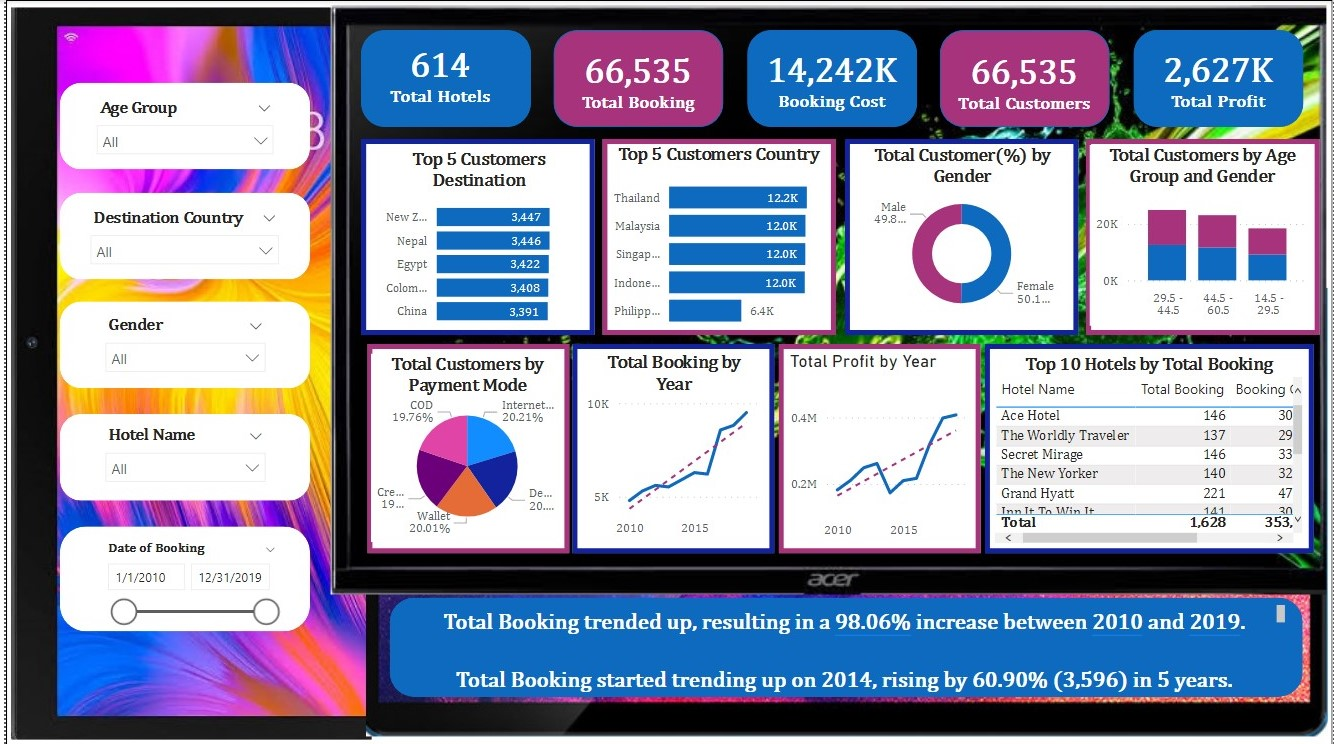

What the dashboard file says about the page in this screenshot:
{"tool":"powerbi","page":{"name":"Hotel Booking Dashboard","canvas":[1280,720],"ordinal":0},"visuals":[{"type":"shape","box":[0,0,1280,720.4],"z":0},{"type":"image","box":[0,0,357.5,720.4],"z":1000},{"type":"image","box":[342.3,269.5,937.7,451],"z":2000},{"type":"image","box":[308,0,972,578.8],"z":3000},{"type":"shape","box":[52,79.7,242,83.9],"z":4000},{"type":"slicer","fields":{"Values":["Order Database.Age Group"]},"box":[77,90.7,191.1,64.6],"z":5000},{"type":"shape","box":[52,186.1,242,83.9],"z":6000},{"type":"shape","box":[52,398.7,242,83.9],"z":7000},{"type":"shape","box":[52,291,242,83.9],"z":8000},{"type":"slicer","fields":{"Values":["Order Database.Destination Country"]},"box":[71.5,196.6,202.1,63.2],"z":9000},{"type":"slicer","fields":{"Values":["Order Database.Gender"]},"box":[85.2,299.7,174.6,66],"z":10000},{"type":"shape","box":[52,507.8,242,101.7],"z":11000},{"type":"slicer","fields":{"Values":["Order Database.Hotel Name"]},"box":[85.2,407,174.6,67.4],"z":12000},{"type":"slicer","fields":{"Values":["Order Database.Date of Booking"]},"box":[85.2,516.9,187,103.1],"z":13000},{"type":"shape","box":[528.6,28.9,163.6,93.5],"z":14000},{"type":"shape","box":[714.9,28.9,163.6,93.5],"z":15000},{"type":"shape","box":[901.2,28.9,163.6,93.5],"z":16000},{"type":"shape","box":[1087.5,28.9,163.6,93.5],"z":17000},{"type":"shape","box":[342.3,28.9,163.6,93.5],"z":18000},{"type":"card","fields":{"Values":["Order Database.Total Hotels"]},"box":[348.1,12.9,140.2,114.1],"z":19000},{"type":"card","fields":{"Values":["Order Database.Total Booking"]},"box":[540.3,17.9,138.9,115.5],"z":20000},{"type":"card","fields":{"Values":["Order Database.Booking Cost"]},"box":[727.3,17.9,138.9,114.1],"z":21000},{"type":"card","fields":{"Values":["Order Database.Total Customers"]},"box":[912.9,19.2,138.9,114.1],"z":22000},{"type":"card","fields":{"Values":["Order Database.Total Profit"]},"box":[1099.9,17.9,138.9,114.1],"z":23000},{"type":"shape","box":[342.7,133.5,225.7,189.9],"z":24000},{"type":"shape","box":[1041.9,133.5,225.7,189.9],"z":25000},{"type":"shape","box":[808.8,133.5,225.7,189.9],"z":26000},{"type":"shape","box":[575.8,133.5,225.7,189.9],"z":27000},{"type":"clusteredBarChart","title":"Top 5 Customers Destination","fields":{"Category":["Order Database.Destination Country"],"Y":["Order Database.Total Customers"]},"box":[348.2,143.1,214.7,180.3],"z":28000},{"type":"clusteredBarChart","title":"Top 5 Customers Country","fields":{"Category":["Order Database.Origin Country"],"Y":["Order Database.Total Customers"]},"box":[567.1,139,240.9,188.6],"z":29000},{"type":"donutChart","title":"Total Customer(%) by Gender","fields":{"Category":["Order Database.Gender"],"Y":["Order Database.Total Customers"]},"box":[823.1,140.4,199.6,174.8],"z":30000},{"type":"columnChart","fields":{"Y":["Order Database.Total Customers"],"Series":["Order Database.Gender"],"Category":["Order Database.Age Group"]},"box":[1046,140.4,216.1,174.8],"z":31000},{"type":"shape","box":[745.5,331.7,195.4,202.3],"z":32000},{"type":"shape","box":[944.2,331.7,317.9,202.3],"z":33000},{"type":"shape","box":[546.9,331.7,195.4,202.3],"z":34000},{"type":"shape","box":[348.2,331.7,195.4,202.3],"z":35000},{"type":"pieChart","fields":{"Category":["Order Database.Payment Mode"],"Y":["Order Database.Total Customers"]},"box":[352.3,341.3,185.8,181.7],"z":36000},{"type":"lineChart","fields":{"Y":["Order Database.Total Booking"],"Category":["Order Database.Date of Booking.Variation.Date Hierarchy.Year","Order Database.Date of Booking.Variation.Date Hierarchy.Quarter","Order Database.Date of Booking.Variation.Date Hierarchy.Month","Order Database.Date of Booking.Variation.Date Hierarchy.Day"]},"box":[554.7,340,178.9,184.4],"z":37000},{"type":"lineChart","fields":{"Category":["Order Database.Date of Booking.Variation.Date Hierarchy.Year","Order Database.Date of Booking.Variation.Date Hierarchy.Quarter","Order Database.Date of Booking.Variation.Date Hierarchy.Month","Order Database.Date of Booking.Variation.Date Hierarchy.Day"],"Y":["Order Database.Total Profit"]},"box":[751.5,337.2,184.4,188.6],"z":38000},{"type":"tableEx","title":"Top 10 Hotels by Total Booking","fields":{"Values":["Order Database.Hotel Name","Order Database.Total Booking","Order Database.Booking Cost","Avg(Order Database.Hotel Rating)"]},"box":[949.7,341.3,306.9,187.2],"z":39000},{"type":"shape","box":[370.2,576.7,880.9,96.3],"z":40000},{"type":"textbox","box":[385.4,579.4,853.3,93.6],"z":40001}]}

Visuals, with their boxes in screenshot pixels (x1, y1, x2, y2), scaled from the page's 1280x720 canvas onto the 1334x744 screenshot:
shape: (0, 0, 1333, 743)
image: (0, 0, 373, 743)
image: (357, 278, 1333, 743)
image: (321, 0, 1333, 598)
shape: (54, 82, 306, 169)
slicer - Order Database.Age Group: (80, 94, 279, 160)
shape: (54, 192, 306, 279)
shape: (54, 412, 306, 499)
shape: (54, 301, 306, 387)
slicer - Order Database.Destination Country: (75, 203, 285, 268)
slicer - Order Database.Gender: (89, 310, 271, 378)
shape: (54, 525, 306, 630)
slicer - Order Database.Hotel Name: (89, 421, 271, 490)
slicer - Order Database.Date of Booking: (89, 534, 284, 641)
shape: (551, 30, 721, 126)
shape: (745, 30, 916, 126)
shape: (939, 30, 1110, 126)
shape: (1133, 30, 1304, 126)
shape: (357, 30, 527, 126)
card - Order Database.Total Hotels: (363, 13, 509, 131)
card - Order Database.Total Booking: (563, 18, 708, 138)
card - Order Database.Booking Cost: (758, 18, 903, 136)
card - Order Database.Total Customers: (951, 20, 1096, 138)
card - Order Database.Total Profit: (1146, 18, 1291, 136)
shape: (357, 138, 592, 334)
shape: (1086, 138, 1321, 334)
shape: (843, 138, 1078, 334)
shape: (600, 138, 835, 334)
"Top 5 Customers Destination" clusteredBarChart: (363, 148, 587, 334)
"Top 5 Customers Country" clusteredBarChart: (591, 144, 842, 339)
"Total Customer(%) by Gender" donutChart: (858, 145, 1066, 326)
columnChart - Order Database.Total Customers x Order Database.Gender: (1090, 145, 1315, 326)
shape: (777, 343, 981, 552)
shape: (984, 343, 1315, 552)
shape: (570, 343, 774, 552)
shape: (363, 343, 567, 552)
pieChart - Order Database.Payment Mode x Order Database.Total Customers: (367, 353, 561, 540)
lineChart - Order Database.Total Booking x Order Database.Date of Booking.Variation.Date Hierarchy.Year: (578, 351, 765, 542)
lineChart - Order Database.Date of Booking.Variation.Date Hierarchy.Year x Order Database.Date of Booking.Variation.Date Hierarchy.Quarter: (783, 348, 975, 543)
"Top 10 Hotels by Total Booking" tableEx: (990, 353, 1310, 546)
shape: (386, 596, 1304, 695)
textbox: (402, 599, 1291, 695)
